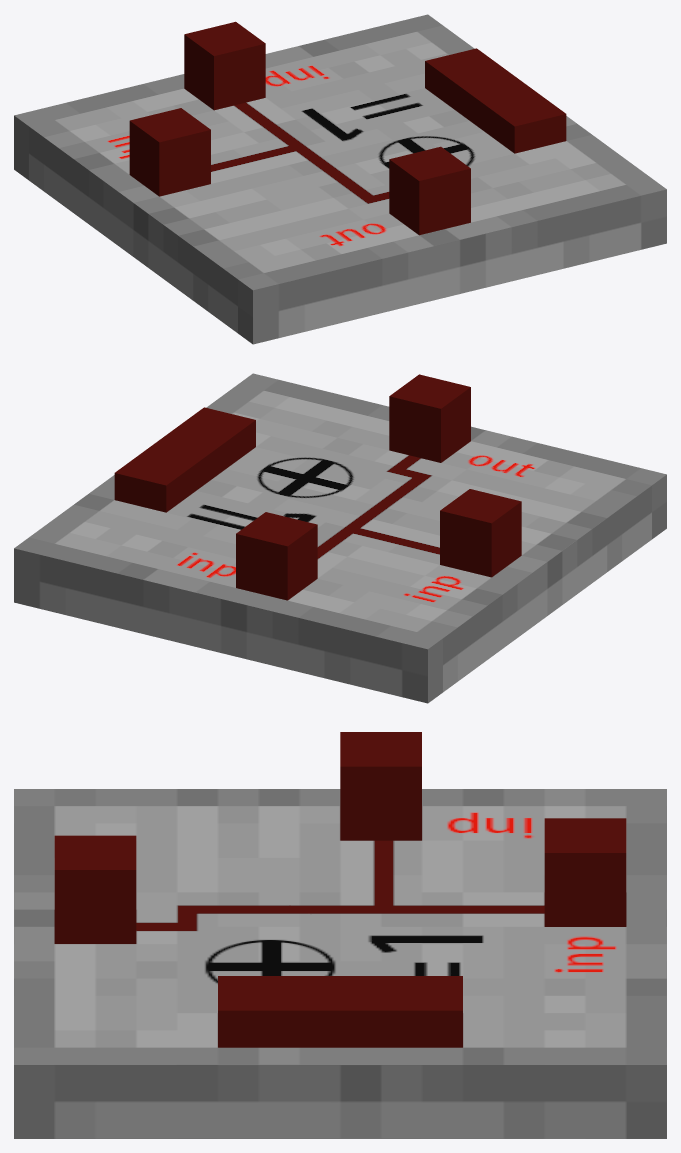
File: xor_unpower.obj
3 renders of one model, top to bottom at view 1: azimuth 30°, elevation 25°; view 2: azimuth 150°, elevation 25°; view 3: azimuth 270°, elevation 25°, orthographic. The views are drawn at different scales.
Parts seen in each view (by area): view 1: pedestal, state, inp2, out, inp1; view 2: pedestal, state, out, inp1, inp2; view 3: pedestal, state, inp2, out, inp1.
Part boxes in pixels (left/top/right/bottom): pedestal: left=14, top=14, right=666, bottom=344; state: left=425, top=48, right=566, bottom=153; inp2: left=184, top=21, right=265, bottom=110; out: left=389, top=146, right=470, bottom=235; inp1: left=129, top=108, right=210, bottom=196; pedestal: left=14, top=373, right=666, bottom=703; state: left=114, top=407, right=255, bottom=512; out: left=389, top=374, right=470, bottom=462; inp1: left=440, top=489, right=521, bottom=577; inp2: left=236, top=512, right=317, bottom=600; pedestal: left=14, top=789, right=666, bottom=1138; state: left=218, top=976, right=462, bottom=1047; inp2: left=544, top=818, right=626, bottom=926; out: left=54, top=835, right=136, bottom=943; inp1: left=340, top=732, right=421, bottom=840.
Bounding box in the file's own units: 1 × 0.25 × 1.
